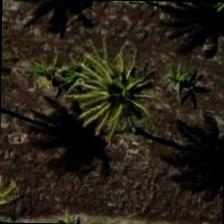Kelapa_Sawit: (70, 51, 162, 143)
